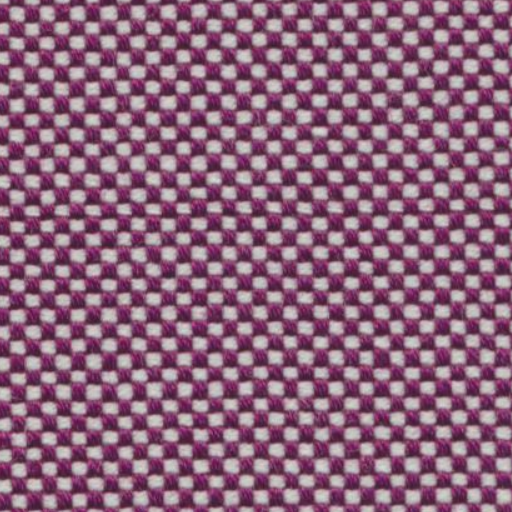TuoSha: (9, 174, 500, 242)
